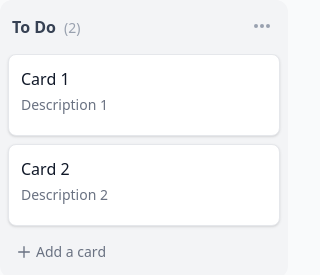
Test: ListColumn Component › Column Menu › should show menu when menu button clicked
Click the button named "Column menu" at (262, 26), box left=248, top=12, right=276, bottom=40
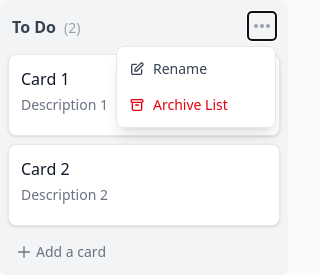
Expected: the button "Rename" is shown, left=117, top=51, right=275, bottom=87
Expected: the button "Archive List" is shown, left=117, top=87, right=275, bottom=123
